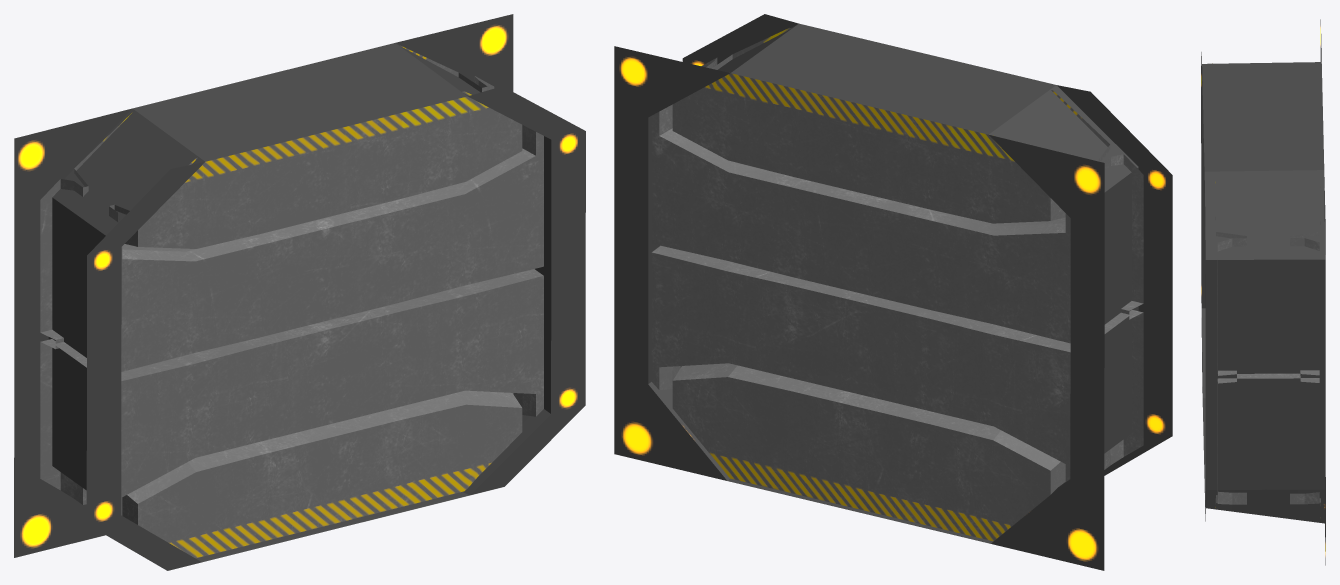
The model's file is Puerta pasillo text.fbx.
The picture shows the model from 3 angles, left to right: view 1: azimuth 30°, elevation 25°; view 2: azimuth 150°, elevation 25°; view 3: azimuth 270°, elevation 25°; orthographic projection. The views are drawn at different scales.
Parts seen in each view (by area): view 1: Puerta para revisar; view 2: Puerta para revisar; view 3: Puerta para revisar.
Boxes of the visible parts, box(x1,y1,x2,y2) form: Puerta para revisar: box(14, 14, 585, 570); Puerta para revisar: box(614, 14, 1172, 570); Puerta para revisar: box(1201, 19, 1325, 565).
Size of the model in its own units: 27477 by 21948 by 7052.
Materials: 2 (2 with a texture image).
